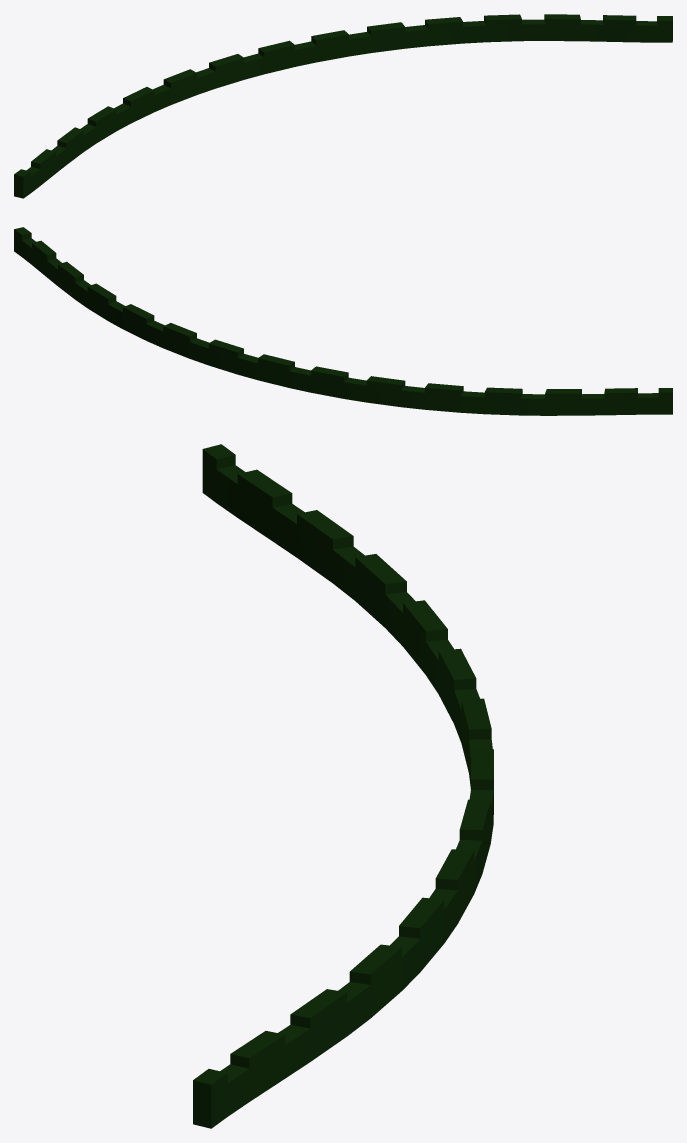
Rendered from wall-top-3.fbx.
3 renders of one model, top to bottom at view 1: azimuth 30°, elevation 25°; view 2: azimuth 150°, elevation 25°; view 3: azimuth 270°, elevation 25°, orthographic. The views are drawn at different scales.
Parts seen in each view (by area): view 1: wall-top-3; view 2: wall-top-3; view 3: wall-top-3.
Boxes of the visible parts, x1=… form: wall-top-3: x1=14, y1=14, x2=672, y2=198; wall-top-3: x1=14, y1=227, x2=672, y2=415; wall-top-3: x1=193, y1=444, x2=493, y2=1128.
Size of the model in its own units: 27.15 by 0.8724 by 5.39.
